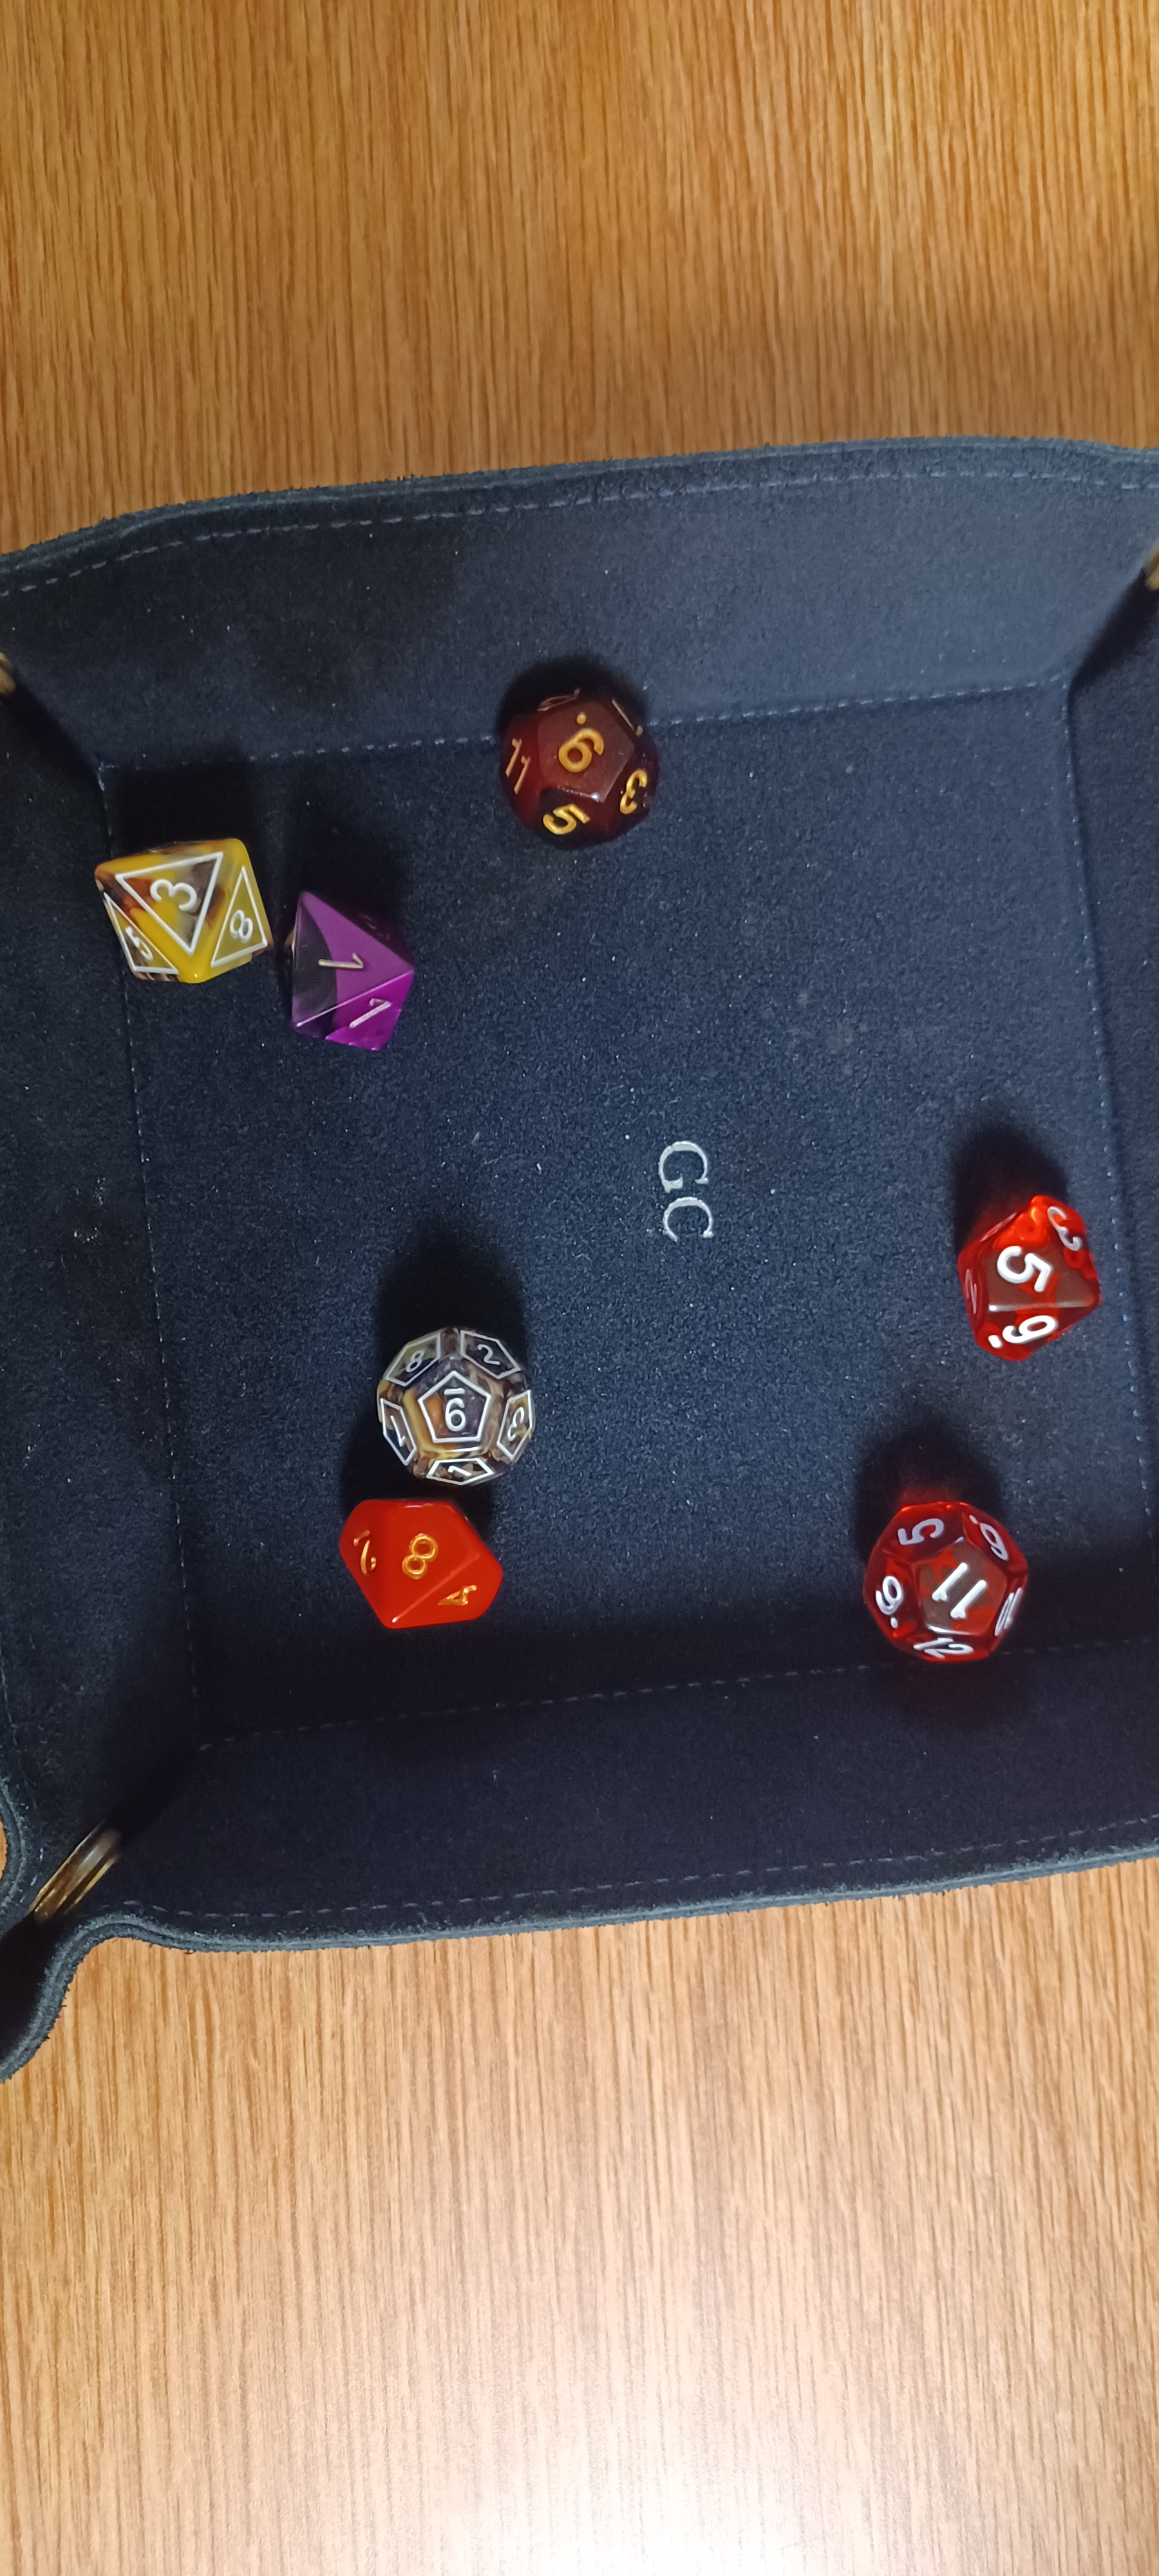eight: (277, 1480, 535, 1630)
eleven: (799, 1456, 1082, 1722)
five: (947, 1173, 1118, 1396)
nine: (455, 657, 704, 867), (364, 1304, 566, 1495)
one: (251, 864, 443, 1094)
three: (74, 779, 292, 1023)
